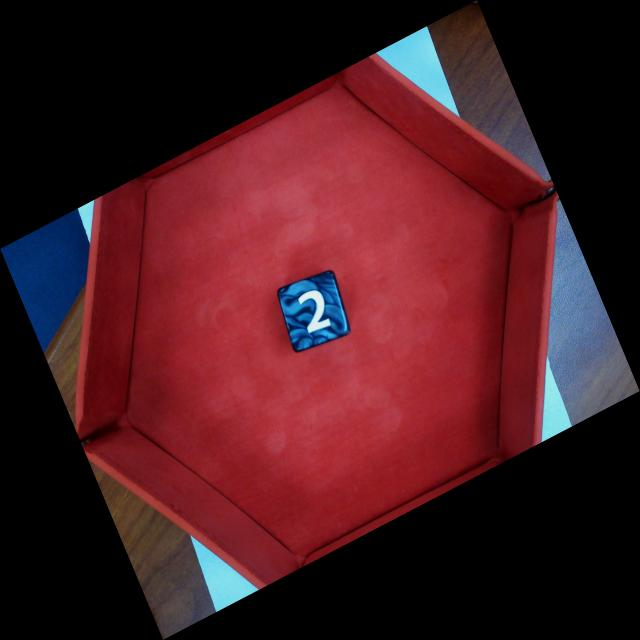dice: (283, 271, 352, 347)
